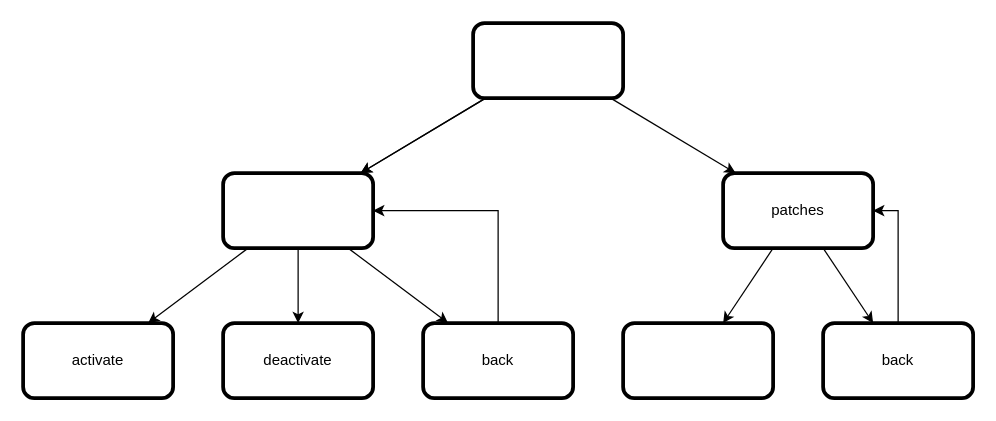
The diagram is 996 pixels wide and 421 high, and some of its shapes have lost their labels. The shapes that lost their labels are listed below. From the top down, each one's centre as x and y in pixels, then its label:
At [547,60]: "MENU".
At [297,210]: "hotspot".
At [697,360]: "patch list".
